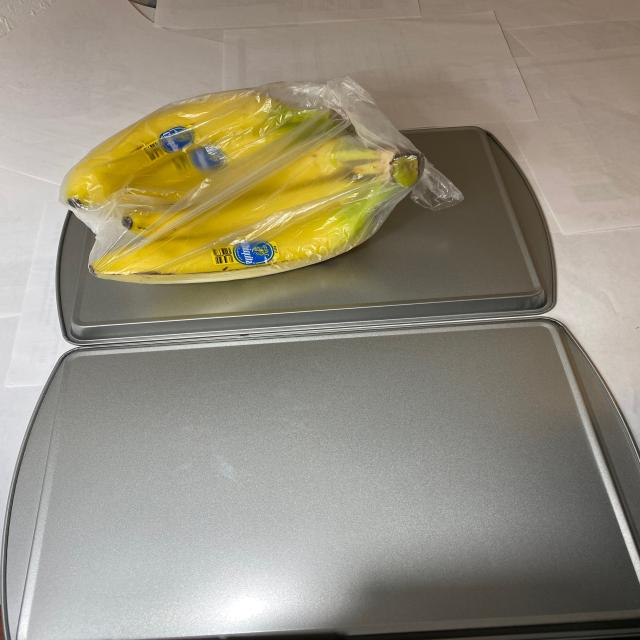banana: (64, 74, 440, 293)
